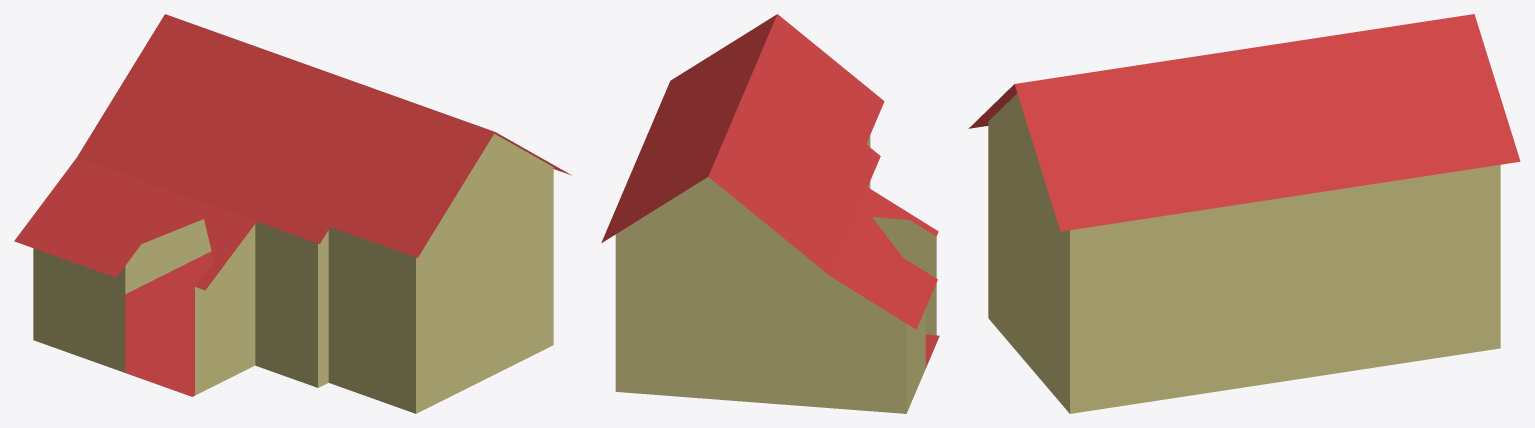
3 renders of one model, left to right at view 1: azimuth 30°, elevation 25°; view 2: azimuth 150°, elevation 25°; view 3: azimuth 270°, elevation 25°, orthographic. The views are drawn at different scales.
Bounding box in the file's own units: 26.14 × 26.61 × 15.12.
